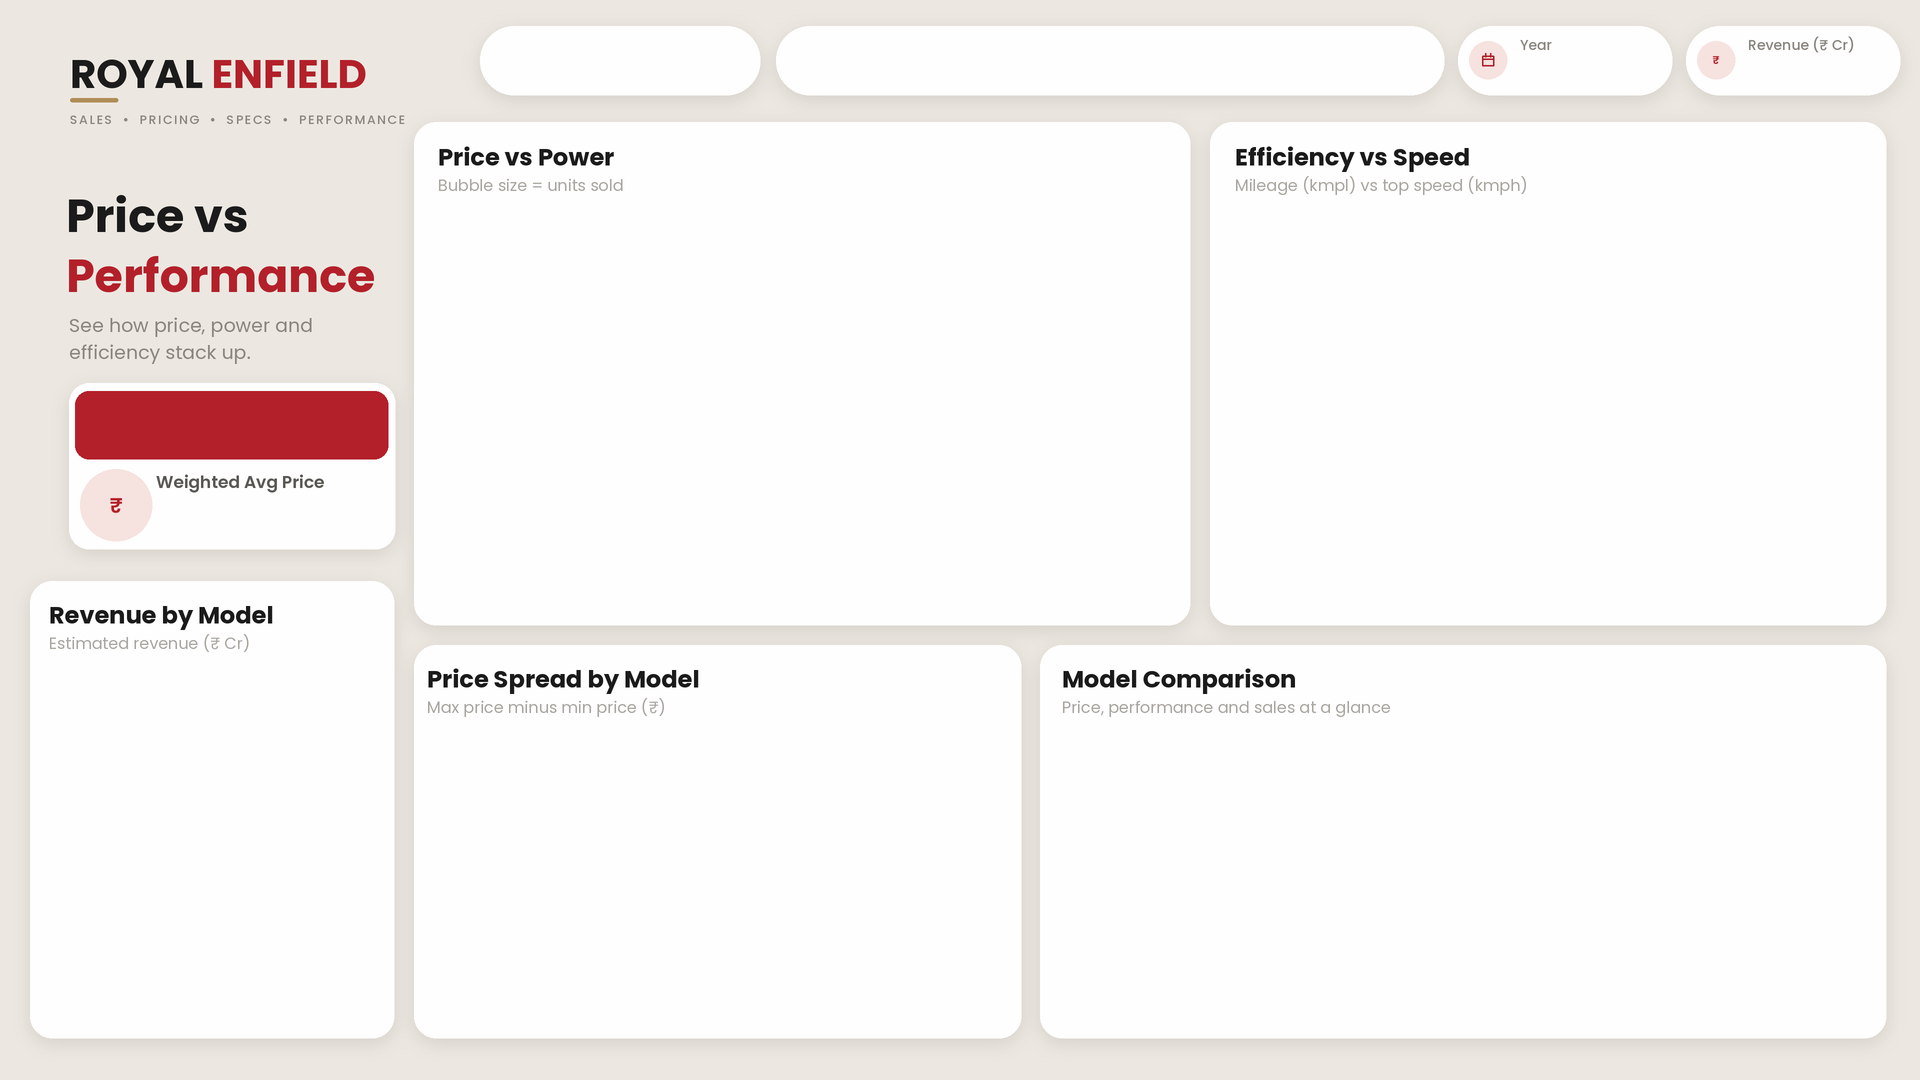

Layout of this report page (visuals, bound fields, positions):
{"tool":"powerbi","page":{"name":"Pricing","canvas":[1920,1080],"ordinal":2},"visuals":[{"type":"pageNavigator","box":[486.8,28.6,268,57],"z":0},{"type":"cardVisual","fields":{"Data":["Fact_Sales.Avg Selling Price"]},"box":[75.5,386.5,313,68],"z":2000},{"type":"cardVisual","fields":{"Data":["Fact_Sales.Est Revenue Cr"]},"box":[1736.2,48.8,148,36],"z":3000},{"type":"clusteredBarChart","fields":{"Category":["Dim_Bike.Model"],"Y":["Fact_Sales.Est Revenue Cr"]},"box":[45,662,334,365],"z":4000},{"type":"scatterChart","fields":{"Category":["Dim_Bike.Model"],"Series":["Dim_Bike.Segment"],"Size":["Fact_Sales.Total Units"],"X":["Dim_Bike.Power"],"Y":["Dim_Bike.Avg Price"]},"box":[422,196.7,748,415],"z":5000},{"type":"scatterChart","fields":{"Category":["Dim_Bike.Model"],"Series":["Dim_Bike.Segment"],"X":["Dim_Bike.Mileage"],"Y":["Dim_Bike.Top Speed"]},"box":[1224,200,650,415],"z":6000},{"type":"clusteredColumnChart","fields":{"Category":["Dim_Bike.Model"],"Y":["Avg(Dim_Bike.Price Spread)"]},"box":[430,725,580,305],"z":7000},{"type":"tableEx","fields":{"Values":["Dim_Bike.Model","Dim_Bike.Segment","Dim_Bike.Avg Price","Dim_Bike.Power","Dim_Bike.Torque","Dim_Bike.Mileage","Dim_Bike.Top Speed","Dim_Bike.Kerb Weight","Dim_Bike.Power to Weight","Fact_Sales.Total Units","Fact_Sales.Est Revenue Cr"]},"box":[1056,725,815,305],"z":8000},{"type":"advancedSlicerVisual","fields":{"Values":["Dim_Bike.Segment"]},"box":[782.2,33.1,655.2,46],"z":10000},{"type":"slicer","fields":{"Values":["Dim_Date.Year"]},"box":[1508,49.3,154.6,42],"z":10001}]}

Visuals, with their boxes in screenshot pixels (x1, y1, x2, y2), scaled from the page's 1920x1080 canvas onto the 1920x1080 screenshot:
pageNavigator: (487,29,755,86)
cardVisual - Fact_Sales.Avg Selling Price: (76,386,388,454)
cardVisual - Fact_Sales.Est Revenue Cr: (1736,49,1884,85)
clusteredBarChart - Dim_Bike.Model x Fact_Sales.Est Revenue Cr: (45,662,379,1027)
scatterChart - Dim_Bike.Model x Dim_Bike.Segment: (422,197,1170,612)
scatterChart - Dim_Bike.Model x Dim_Bike.Segment: (1224,200,1874,615)
clusteredColumnChart - Dim_Bike.Model x Avg(Dim_Bike.Price Spread): (430,725,1010,1030)
tableEx - Dim_Bike.Model x Dim_Bike.Segment: (1056,725,1871,1030)
advancedSlicerVisual - Dim_Bike.Segment: (782,33,1437,79)
slicer - Dim_Date.Year: (1508,49,1663,91)
